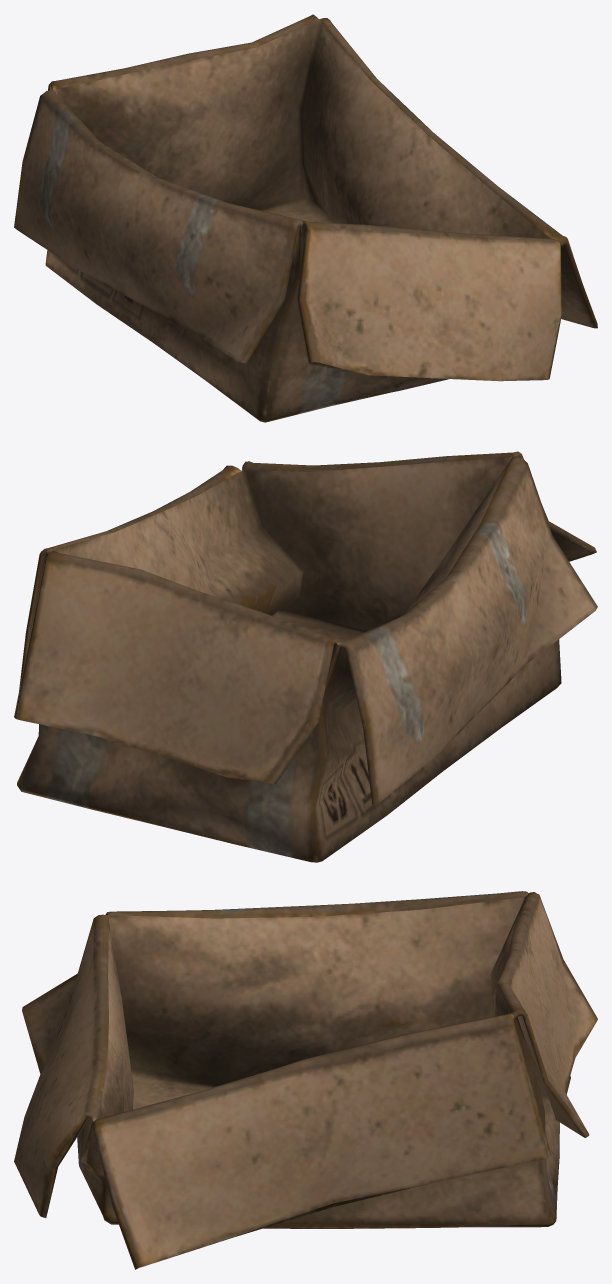
Rendered from cardboardBox03_a.FBX.
3 views of the same model, one above another, from view 1: azimuth 30°, elevation 25°; view 2: azimuth 150°, elevation 25°; view 3: azimuth 270°, elevation 25° (orthographic). The views are drawn at different scales.
Parts seen in each view (by area): view 1: SM_CardboardBox03; view 2: SM_CardboardBox03; view 3: SM_CardboardBox03.
Part boxes in pixels (left/top/right/bottom): SM_CardboardBox03: left=14, top=14, right=597, bottom=422; SM_CardboardBox03: left=14, top=451, right=597, bottom=862; SM_CardboardBox03: left=14, top=891, right=597, bottom=1269.
Size of the model in its own units: 38.57 by 18.83 by 47.38.
1 material, 1 textured.
